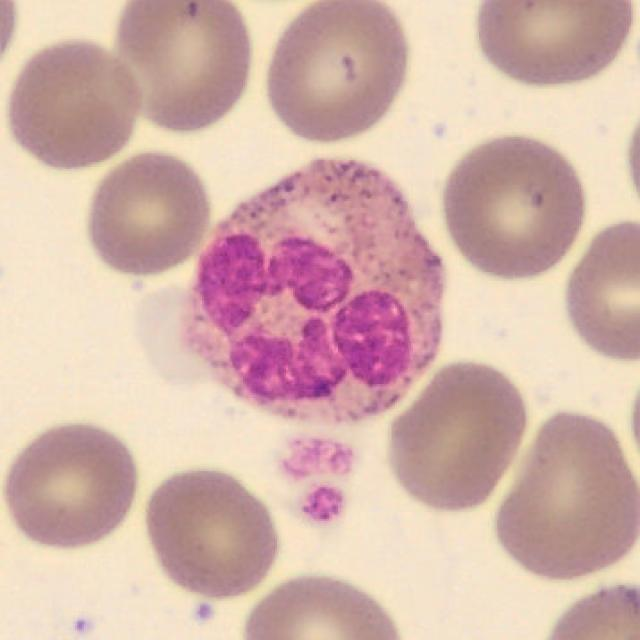Neutrofilo segmentado: (184, 160, 442, 421)
